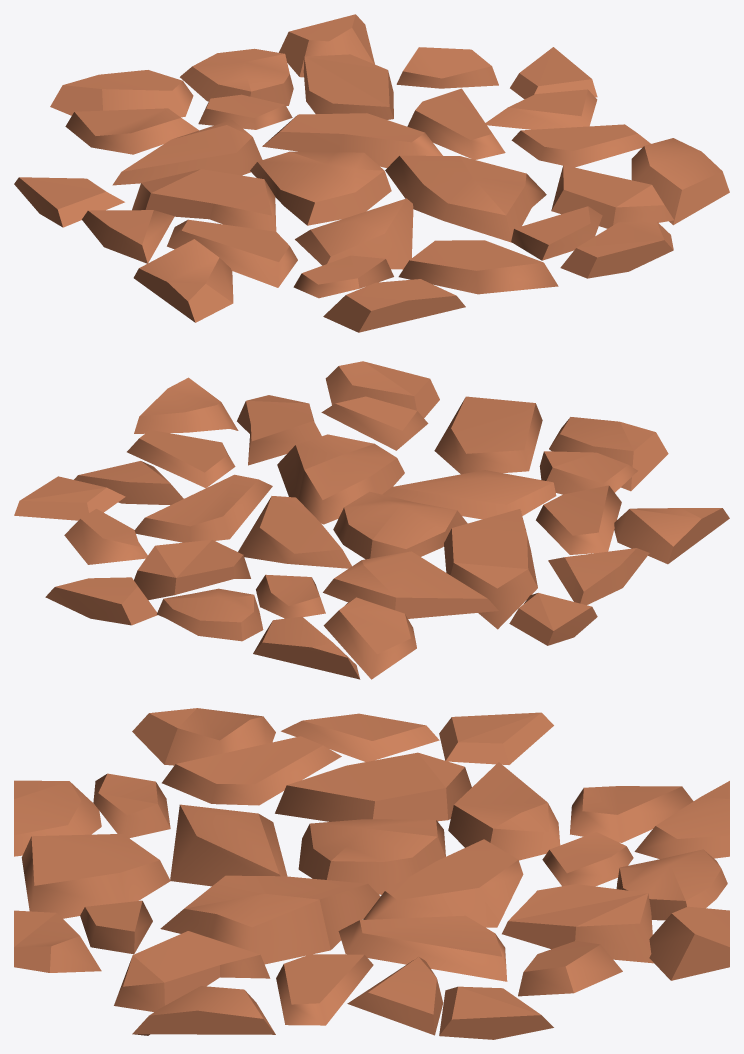
File: Stone_Path_Crossroads.fbx
3 renders of one model, top to bottom at view 1: azimuth 30°, elevation 25°; view 2: azimuth 150°, elevation 25°; view 3: azimuth 270°, elevation 25°, orthographic. The views are drawn at different scales.
Visible parts, largest first — view 1: Stone_Path_Crossroads; view 2: Stone_Path_Crossroads; view 3: Stone_Path_Crossroads.
Boxes of the visible parts, x1,y1,x2,y2 form: Stone_Path_Crossroads: (14,14,729,332); Stone_Path_Crossroads: (14,361,729,679); Stone_Path_Crossroads: (14,708,729,1039).
Size of the model in its own units: 147 by 15.84 by 147.
